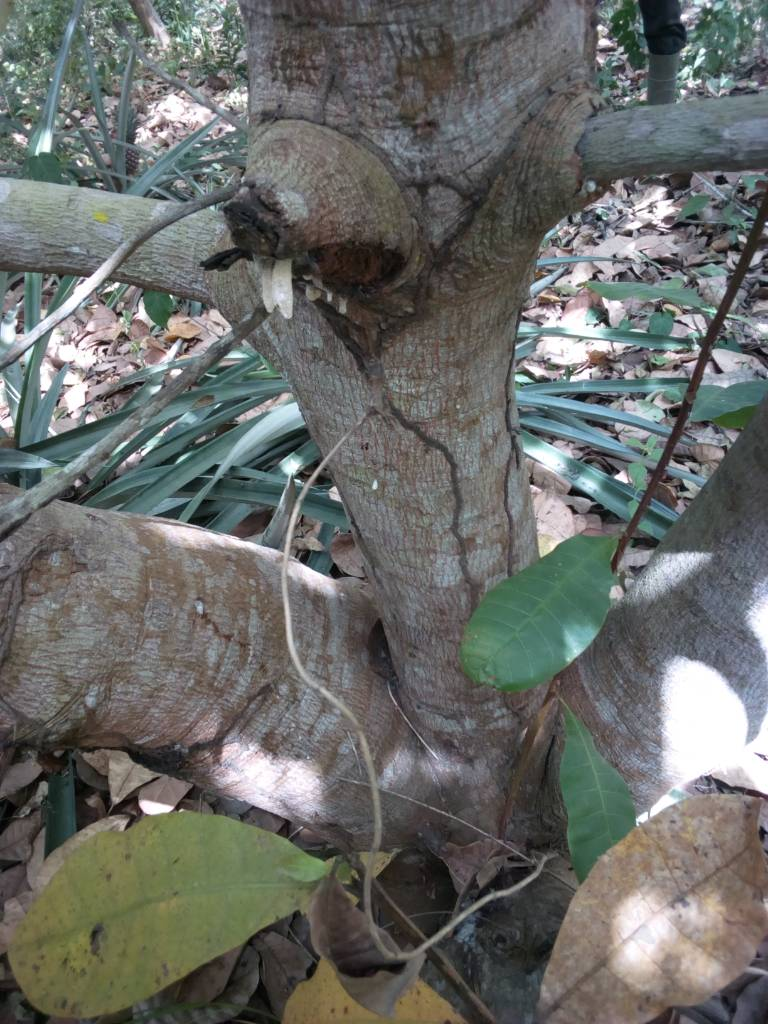Termites: (391, 399, 527, 585)
